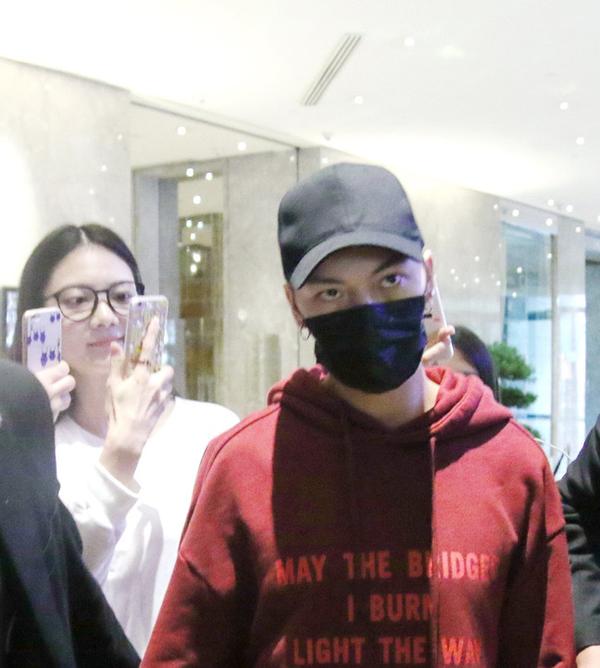face: (51, 251, 136, 373)
face_mask: (303, 249, 426, 393)
